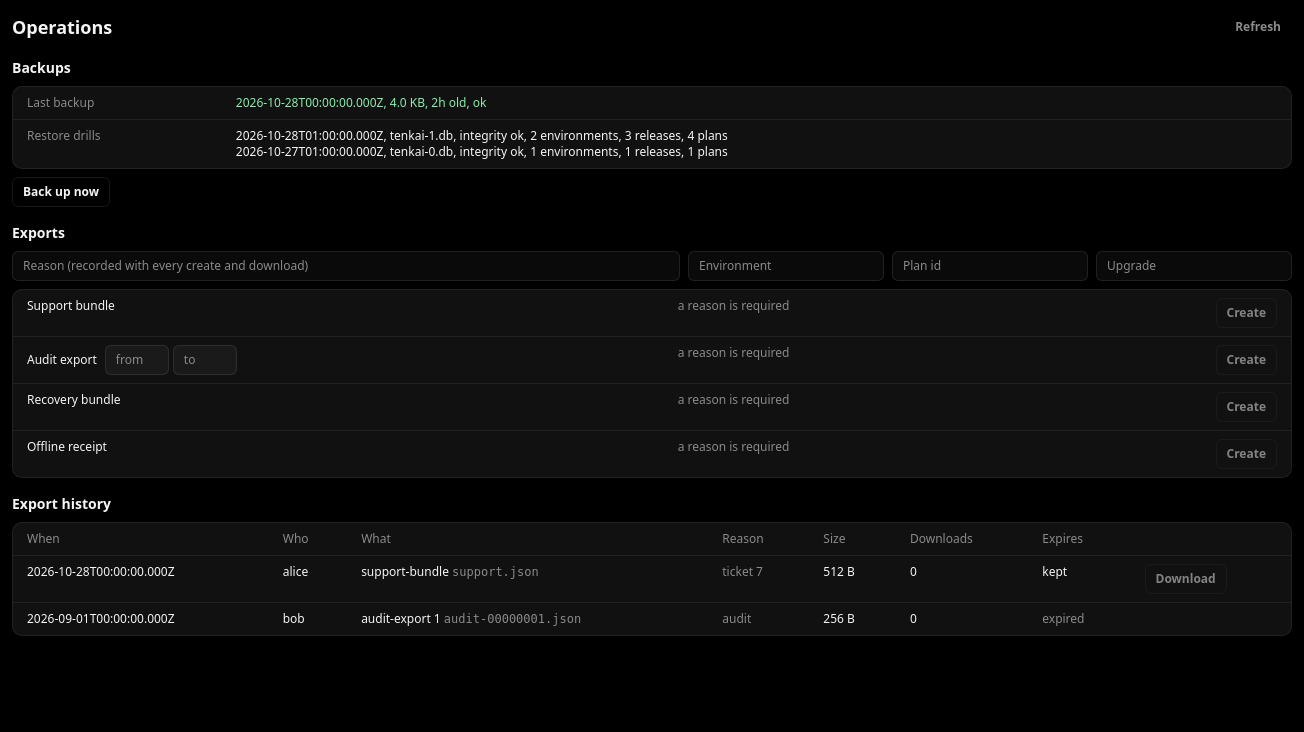
Test: Operations › keeps a credential refusal visible after it hides Back up now, and refreshes health
The image size is (1304, 732).
What coordinates should you click on to do the following:
click the button "Back up now"
I would click on:
 (61, 192)
Its box is [12,177,110,207].
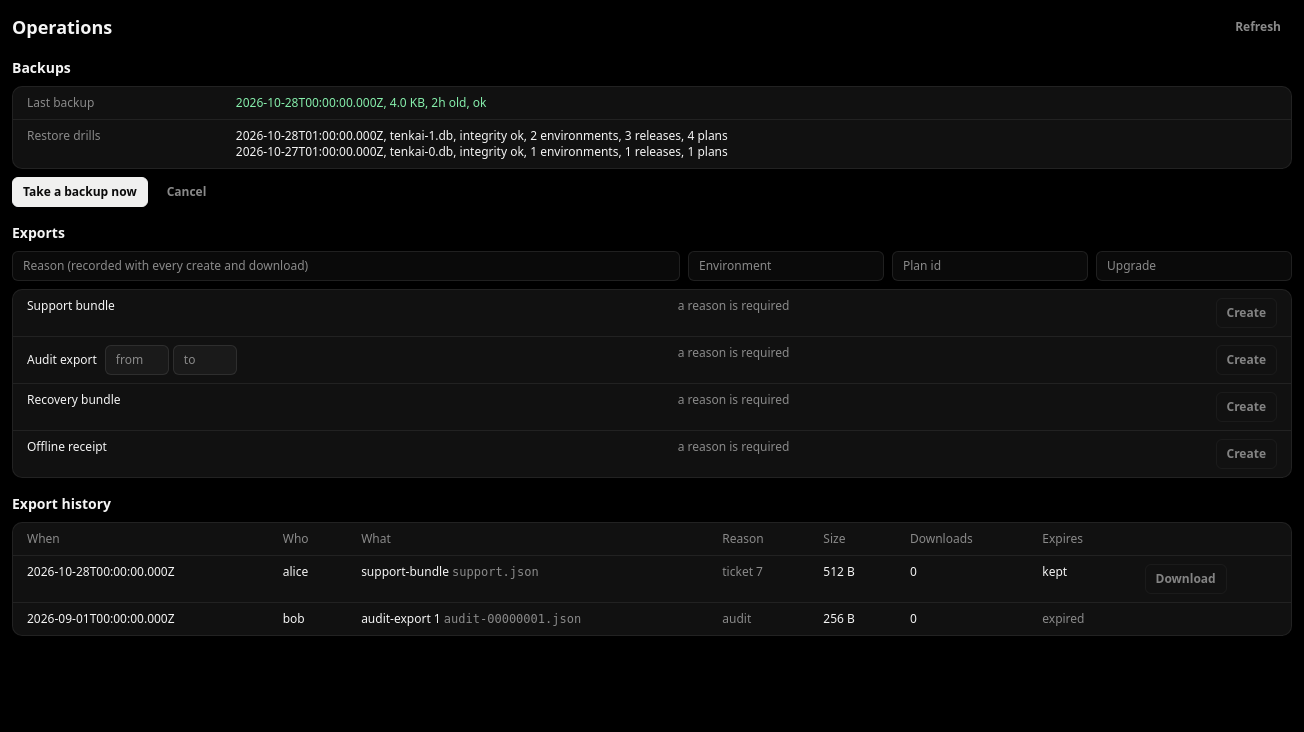
What coordinates should you click on to do the following:
click the button "Take a backup now"
I would click on:
 (80, 192)
Its box is [12,177,148,207].
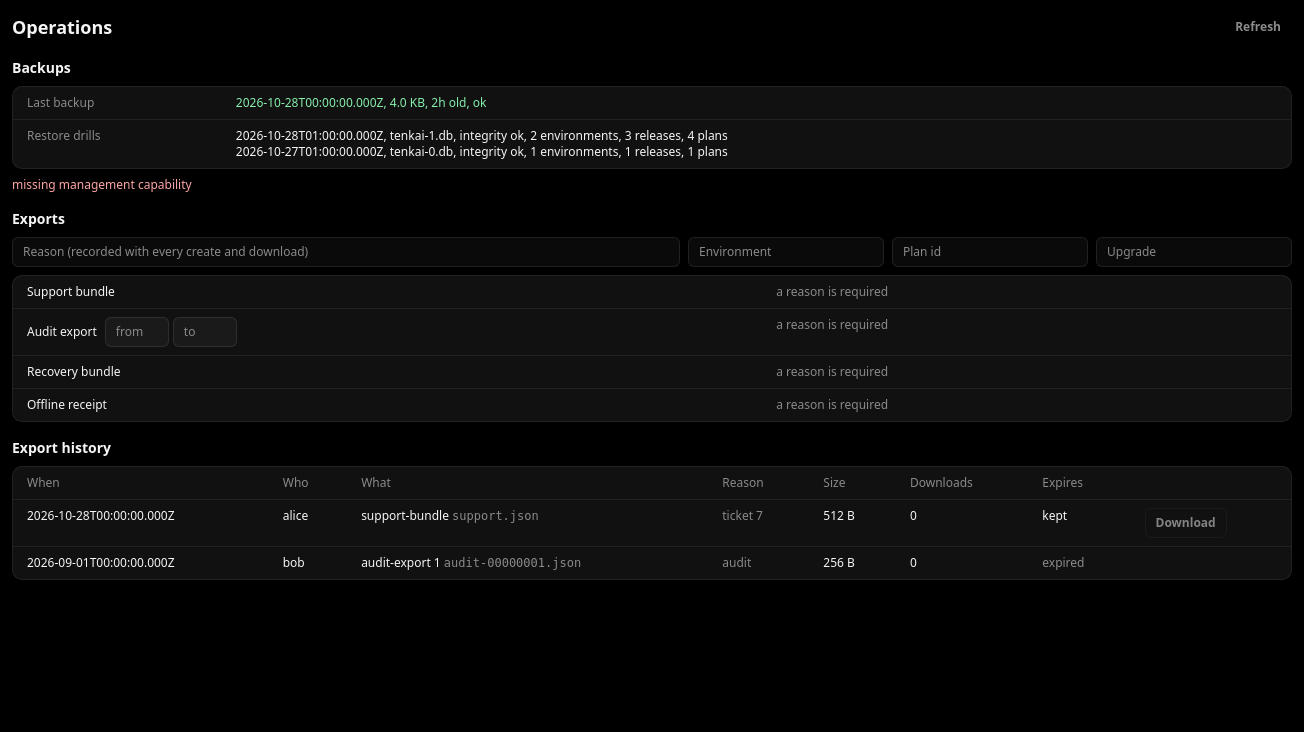
Now the text "missing management capability" is shown, box [12,177,192,193]
